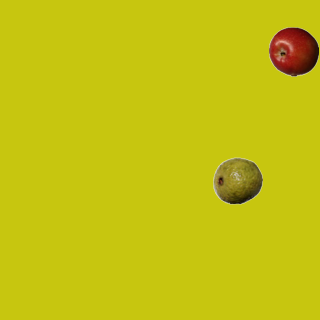Apple Braeburn: (268, 26, 318, 76)
Guava: (212, 155, 262, 205)
